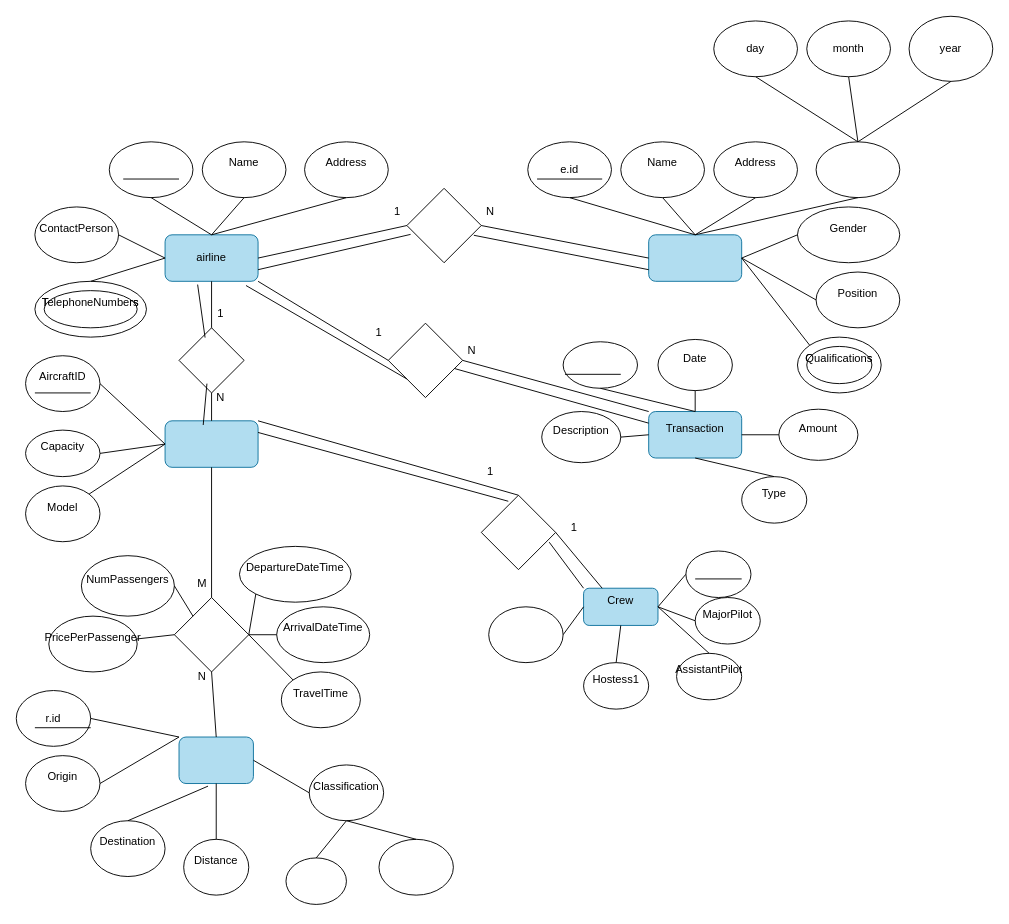
This 1009x924 diagram has some shape labels left out. Each missing label, with the centre of its shape:
a.id: the point at 150,169
a/c_route: the point at 211,634
Aircraft: the point at 211,443
Birthday: the point at 857,169
c.id: the point at 718,574
domestic: the point at 415,866
Employee: the point at 695,257
Hostess2: the point at 525,634
international: the point at 315,880
keep: the point at 425,360
own: the point at 518,532
OWNS: the point at 211,360
Route: the point at 215,760
t.id: the point at 600,364
works in: the point at 443,225
